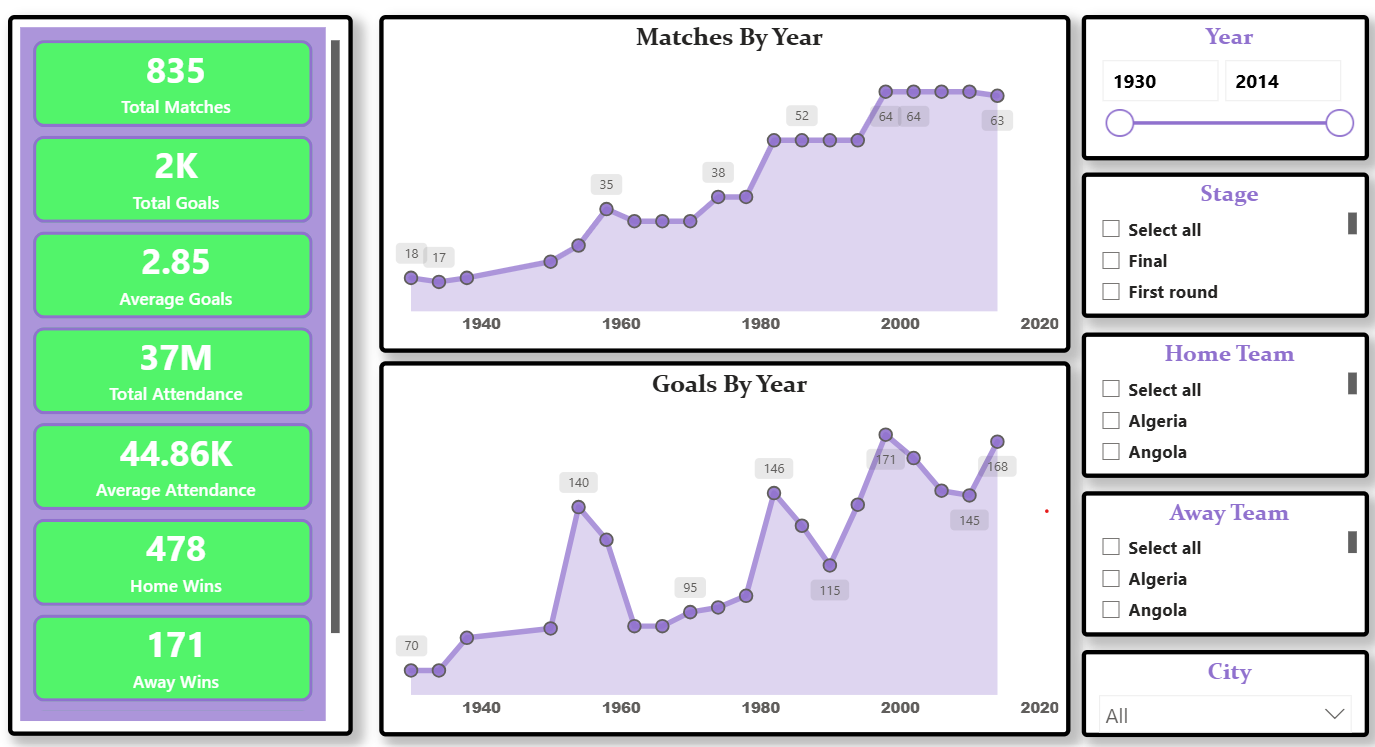

The page's visual inventory and layout, read from the dashboard file:
{"tool":"powerbi","page":{"name":"Overview 1","canvas":[1280,720],"ordinal":0},"visuals":[{"type":"cardVisual","fields":{"Data":["WorldCupMatches1.Total Matches","Sum(WorldCupMatches1.Total Goals)","WorldCupMatches1.Average Goals","WorldCupMatches1.Total Attendance","WorldCupMatches1.Average Attendance","WorldCupMatches1.Home Wins","WorldCupMatches1.Away Wins","WorldCupMatches1.Draw"]},"box":[17.8,27.4,317,662.8],"z":0},{"type":"lineChart","title":"Matches By Year","fields":{"Category":["WorldCupMatches1.Year"],"Y":["CountNonNull(WorldCupMatches1.MatchID)"]},"box":[359.5,27.4,635.3,310.1],"z":1000},{"type":"lineChart","title":"Goals By Year","fields":{"Category":["WorldCupMatches1.Year"],"Y":["Sum(WorldCupMatches1.Total Goals)"]},"box":[359.5,345.8,635.3,344.4],"z":2000},{"type":"slicer","title":"Year","fields":{"Values":["WorldCupMatches1.Year"]},"box":[1004.9,27.1,263.7,134],"z":3000},{"type":"slicer","title":"Stage","fields":{"Values":["WorldCupMatches1.Stage"]},"box":[1004.9,172.5,263.7,134],"z":4000},{"type":"slicer","title":"Home Team","fields":{"Values":["WorldCupMatches1.Home Team Name"]},"box":[1004.9,319.3,263.7,134],"z":5000},{"type":"slicer","title":"Away Team","fields":{"Values":["WorldCupMatches1.Away Team Name"]},"box":[1004.9,464.7,263.7,134],"z":6000},{"type":"slicer","title":"City","fields":{"Values":["WorldCupMatches1.City"]},"box":[1004.9,611.5,263.7,79.8],"z":7000}]}

Visuals, with their boxes in screenshot pixels (x1, y1, x2, y2):
cardVisual - WorldCupMatches1.Total Matches x Sum(WorldCupMatches1.Total Goals): box=[12, 22, 349, 726]
"Matches By Year" lineChart: box=[375, 22, 1050, 352]
"Goals By Year" lineChart: box=[375, 360, 1050, 726]
"Year" slicer: box=[1061, 22, 1341, 164]
"Stage" slicer: box=[1061, 176, 1341, 319]
"Home Team" slicer: box=[1061, 332, 1341, 475]
"Away Team" slicer: box=[1061, 487, 1341, 629]
"City" slicer: box=[1061, 643, 1341, 727]
